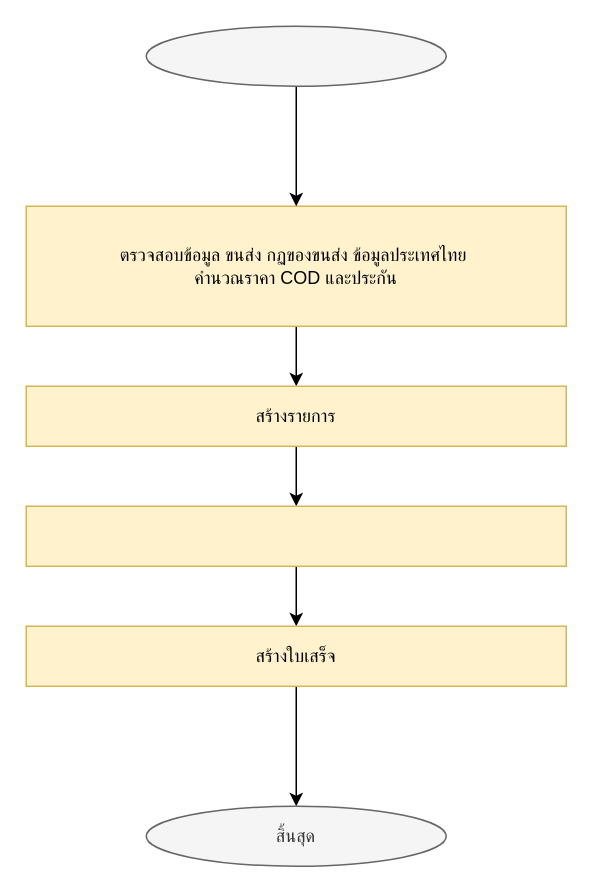
Image size: 593x893. Some labels were removed from this diagram. Each missing label, with the centre of its shape:
สร้างรายการกับขนส่ง: the point at 295,535
เริ่มต้น: the point at 295,55
